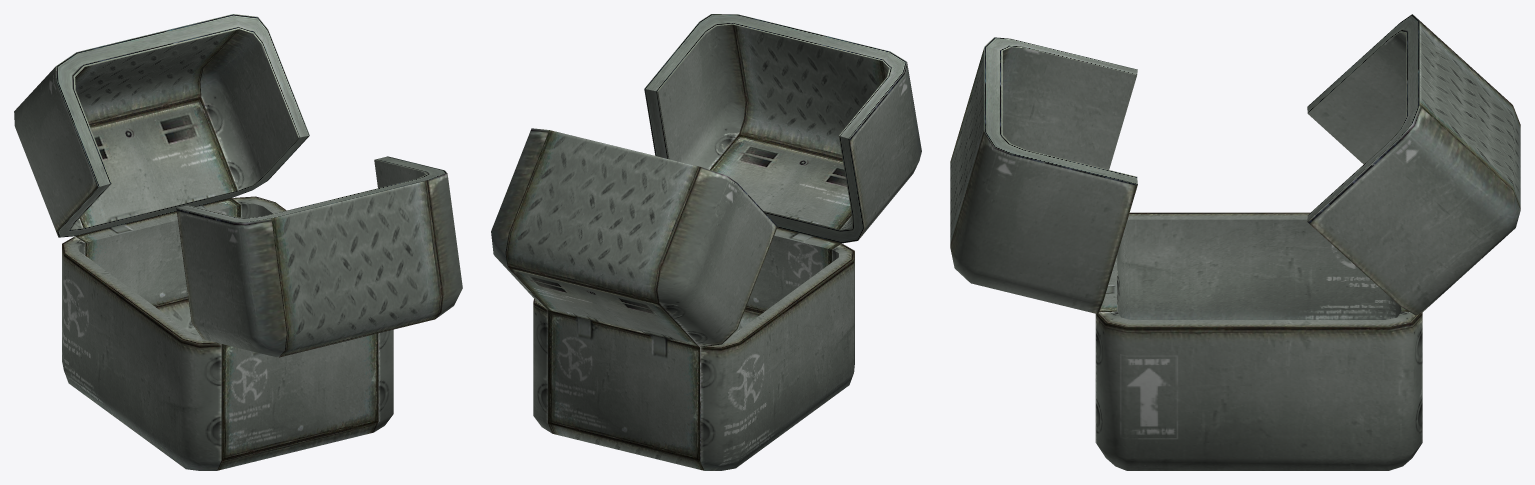
The model's file is Model_Crate_03_Open.fbx.
3 views of the same model, side by side, from view 1: azimuth 30°, elevation 25°; view 2: azimuth 150°, elevation 25°; view 3: azimuth 270°, elevation 25° (orthographic). The views are drawn at different scales.
Visible parts, largest first — view 1: Crate_03_Open0; view 2: Crate_03_Open0; view 3: Crate_03_Open0.
Boxes of the visible parts, left/top/right/bottom form: Crate_03_Open0: left=14, top=14, right=462, bottom=470; Crate_03_Open0: left=491, top=14, right=921, bottom=470; Crate_03_Open0: left=950, top=14, right=1520, bottom=470.
Bounding box in the file's own units: 101 × 145 × 209.
